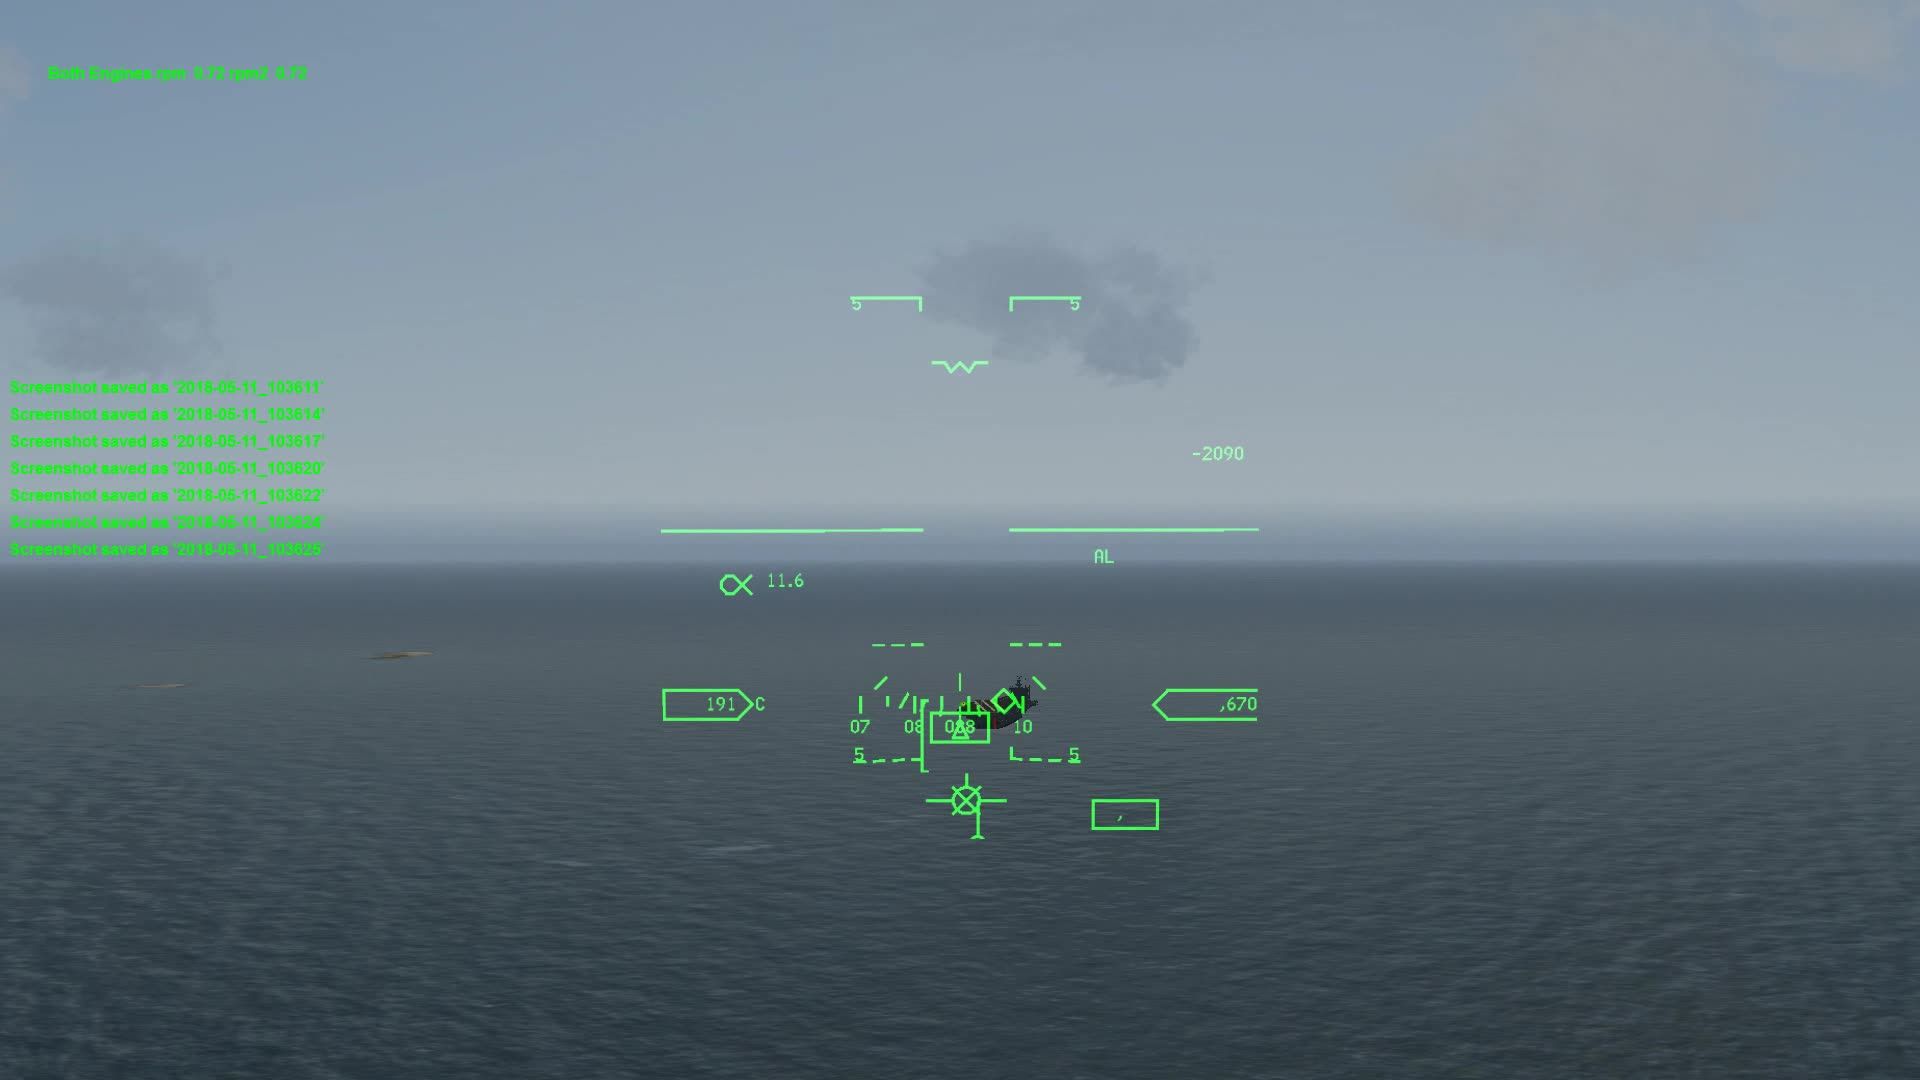speed vector: (932, 782, 1000, 825)
